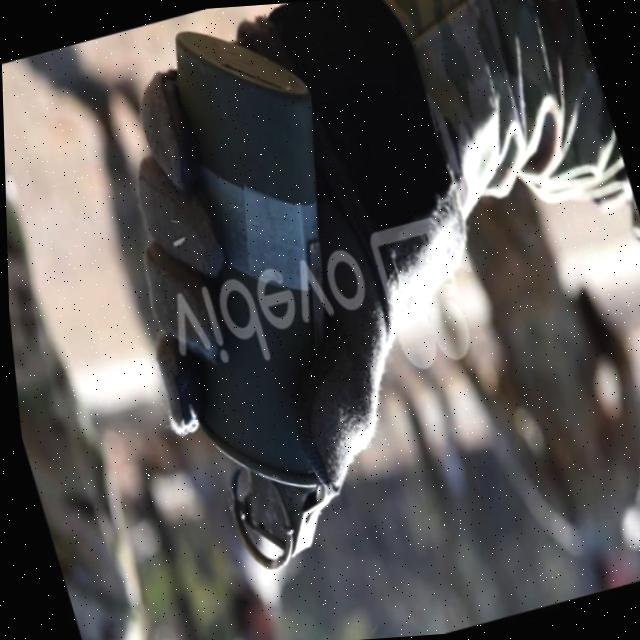grenade: (72, 0, 439, 589)
